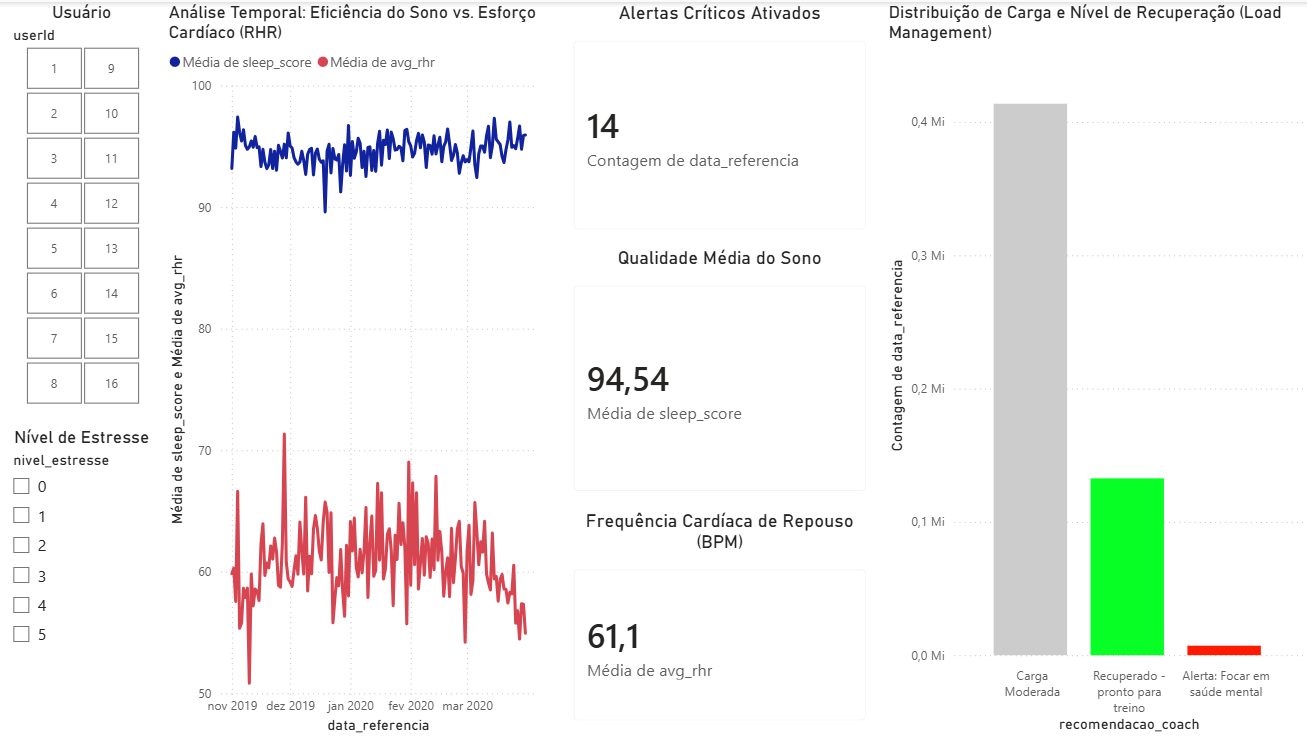

The dashboard page shown, as its layout file describes it:
{"tool":"powerbi","page":{"name":"Página 1","canvas":[1280,720],"ordinal":0},"visuals":[{"type":"cardVisual","title":"Frequência Cardíaca de Repouso (BPM)","fields":{"Data":["Avg(Consulta1.avg_rhr)"]},"box":[544,496,320,224],"z":0},{"type":"actionButton","box":[0,0,100,40],"z":1000},{"type":"cardVisual","title":"Qualidade Média do Sono","fields":{"Data":["Avg(Consulta1.sleep_score)"]},"box":[544,240,320,256],"z":2000},{"type":"cardVisual","title":"Alertas Críticos Ativados","fields":{"Data":["Count(Consulta1.data_referencia)"]},"box":[544,0,320,240],"z":3000},{"type":"lineChart","title":"Análise Temporal: Eficiência do Sono vs. Esforço Cardíaco (RHR)","fields":{"Y":["Avg(Consulta1.sleep_score)","Avg(Consulta1.avg_rhr)"],"Category":["Consulta1.data_referencia"]},"box":[160,0,384,720],"z":4000},{"type":"lineClusteredColumnComboChart","title":"Distribuição de Carga e Nível de Recuperação (Load Management)","fields":{"Category":["Consulta1.recomendacao_coach"],"Y":["CountNonNull(Consulta1.data_referencia)"]},"box":[864,0,416,720],"z":5000},{"type":"slicer","title":"Usuário","fields":{"Values":["Consulta1.userId"]},"box":[0,0,160,400],"z":6000},{"type":"slicer","title":"Nível de Estresse","fields":{"Values":["Consulta1.nivel_estresse"]},"box":[0,416,160,304],"z":7000}]}

Visuals, with their boxes in screenshot pixels (x1, y1, x2, y2), scaled from the page's 1280x720 canvas onto the 1307x737 screenshot:
"Frequência Cardíaca de Repouso (BPM)" cardVisual: 555, 508, 882, 736
actionButton: 0, 0, 102, 41
"Qualidade Média do Sono" cardVisual: 555, 246, 882, 508
"Alertas Críticos Ativados" cardVisual: 555, 0, 882, 246
"Análise Temporal: Eficiência do Sono vs. Esforço Cardíaco (RHR)" lineChart: 163, 0, 555, 736
"Distribuição de Carga e Nível de Recuperação (Load Management)" lineClusteredColumnComboChart: 882, 0, 1306, 736
"Usuário" slicer: 0, 0, 163, 409
"Nível de Estresse" slicer: 0, 426, 163, 736
